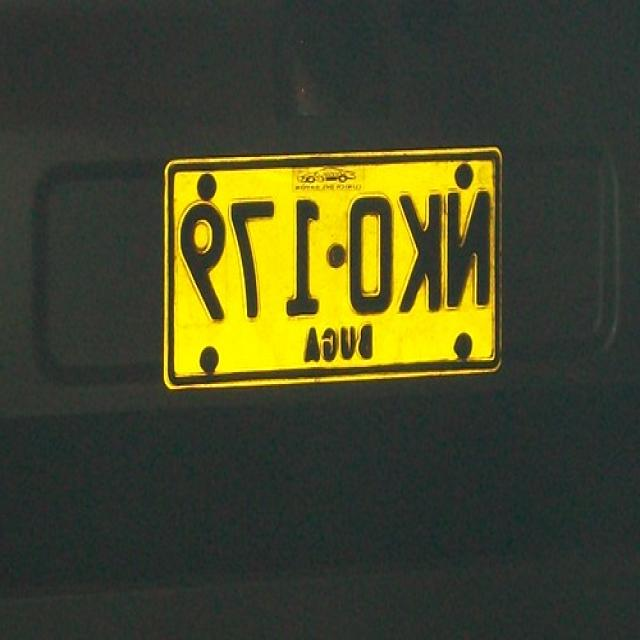placas: (175, 148, 494, 342)
